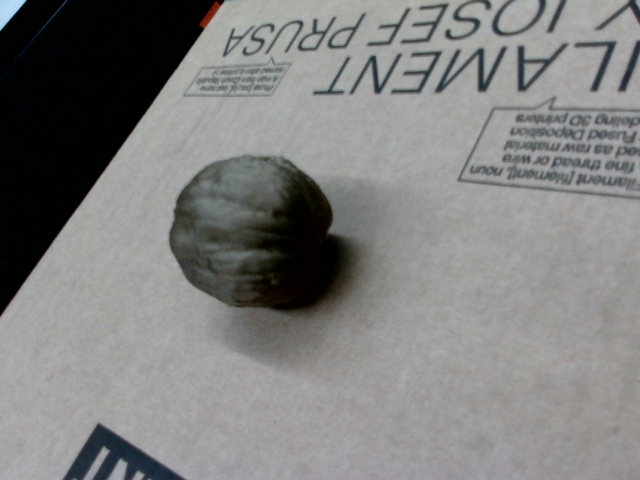walnut: (153, 133, 344, 325)
